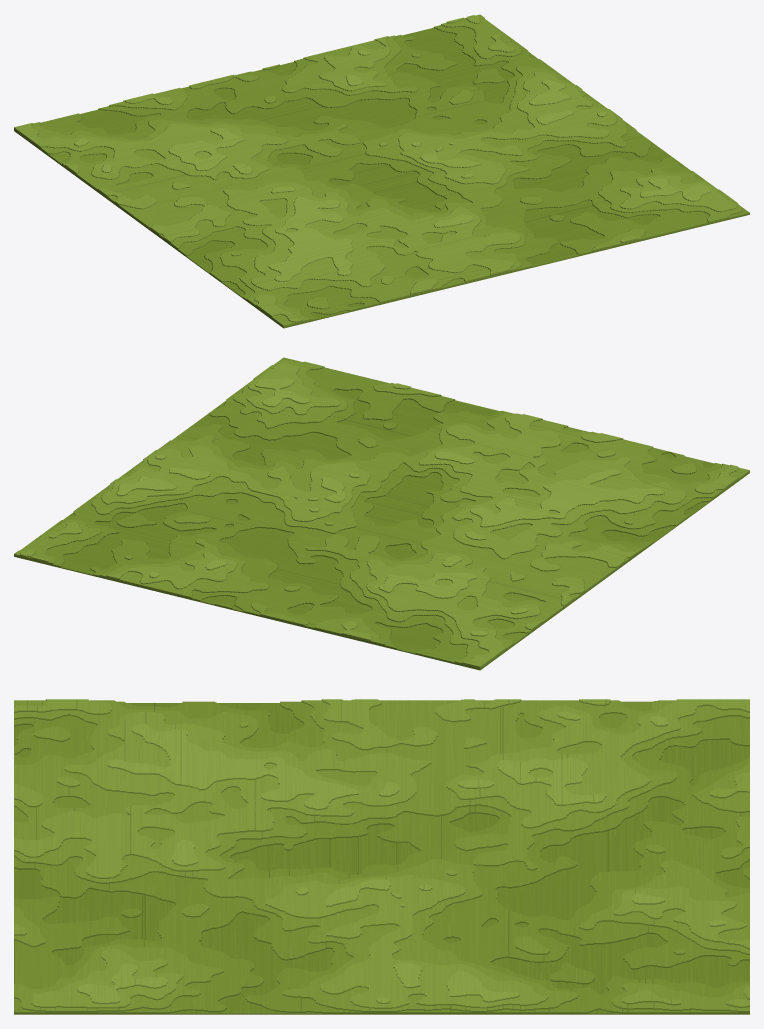
File: Environment_Land.fbx
3 views of the same model, one above another, from view 1: azimuth 30°, elevation 25°; view 2: azimuth 150°, elevation 25°; view 3: azimuth 270°, elevation 25° (orthographic). The views are drawn at different scales.
Parts seen in each view (by area): view 1: Heightmap_Test; view 2: Heightmap_Test; view 3: Heightmap_Test.
Boxes of the visible parts, x1,y1,x2,y2 form: Heightmap_Test: (14, 14, 749, 328); Heightmap_Test: (14, 357, 749, 670); Heightmap_Test: (14, 699, 749, 1014).
Size of the model in its own units: 511 by 5 by 512.
Materials: 1 (1 with a texture image).
